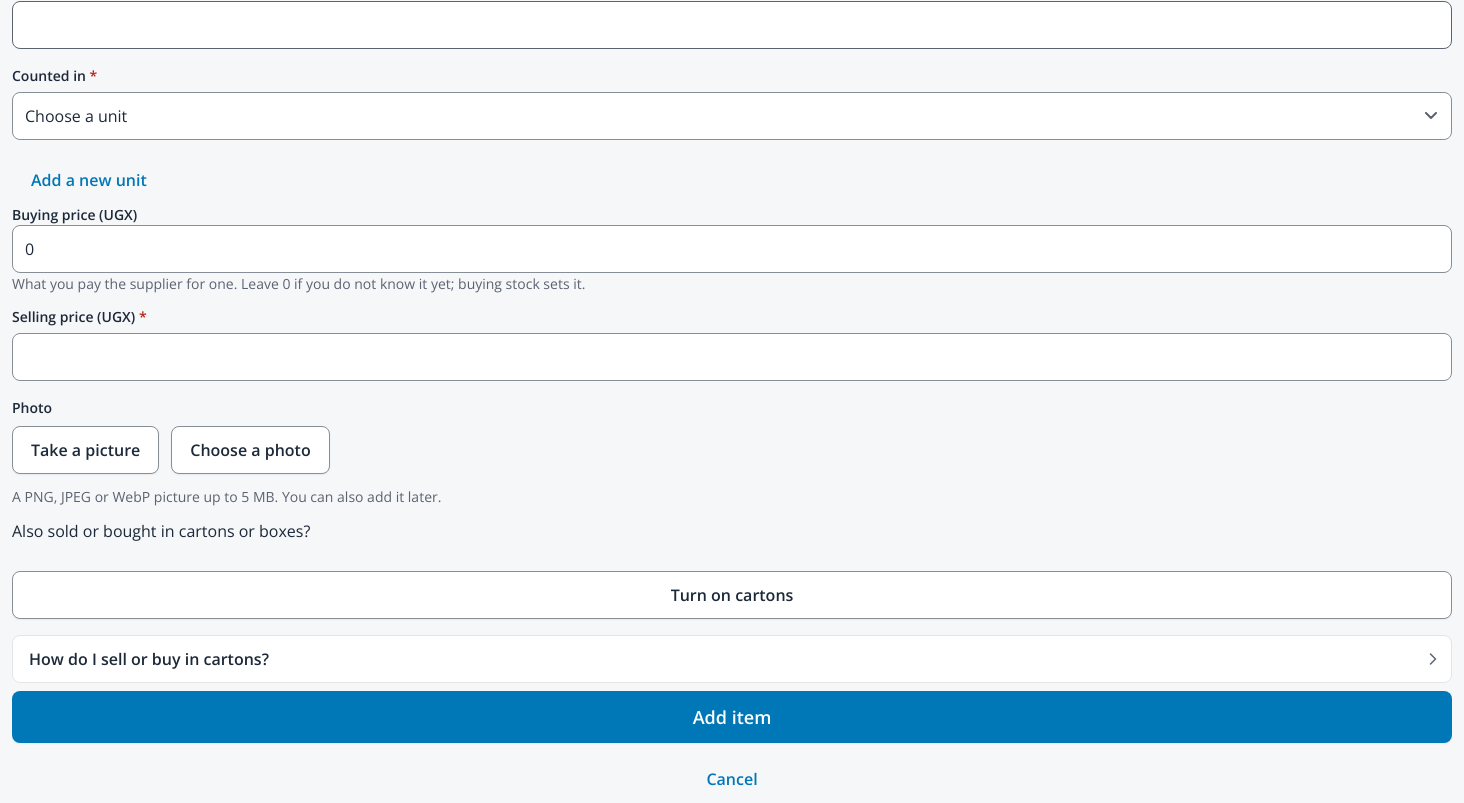
the turn-on line on the item form › says on Add an item that the packs are on in one toast, with no note beside it
This screenshot has width=1464, height=803.
(page scrolled)
Click the button "Turn on cartons".
click(732, 595)  # box [12, 571, 1452, 619]
(page scrolled)
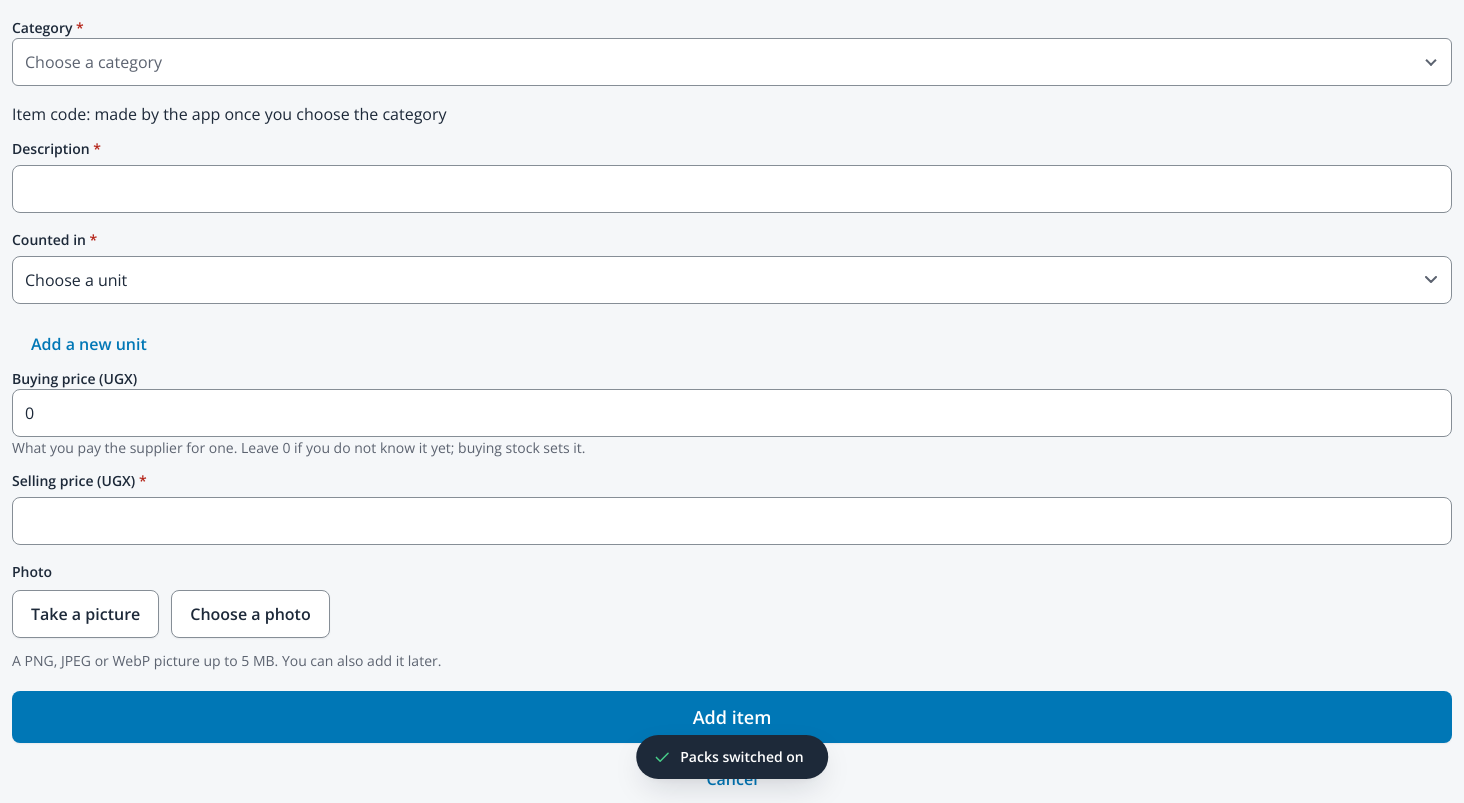
Check: the number of messages with class "toast" is 1, box [636, 735, 828, 779]
Check: the message with class "toast" reads "Packs switched on", box [680, 747, 804, 766]
